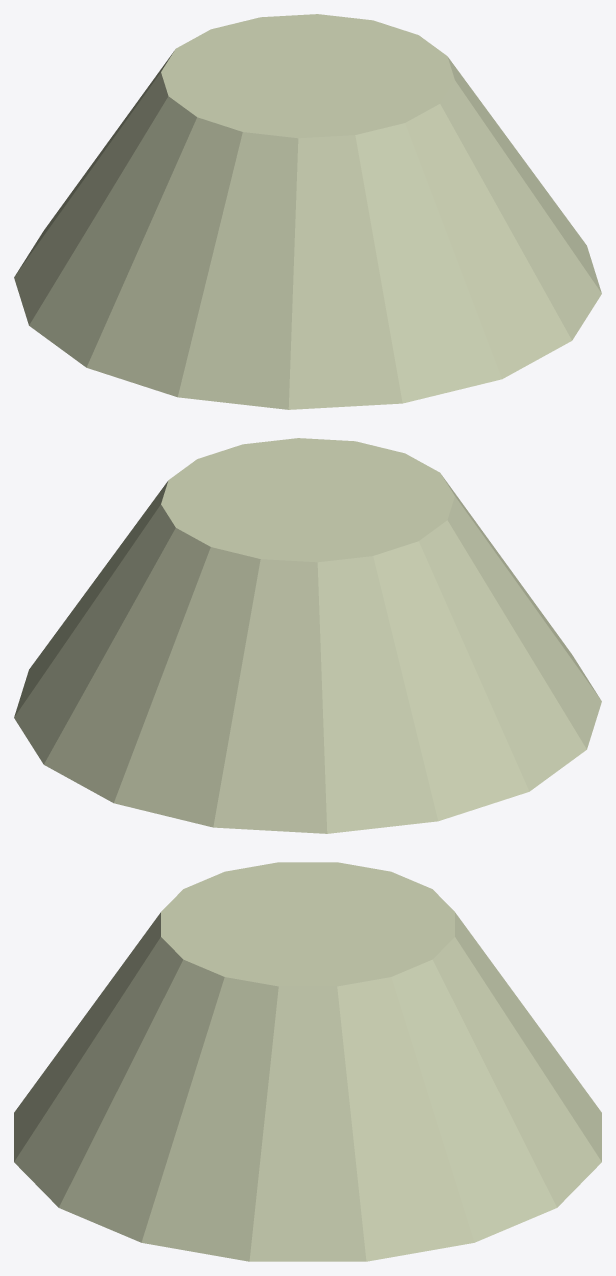
The model's file is aquarius_crew_s1p5_1_collider.obj.
3 views of the same model, one above another, from view 1: azimuth 30°, elevation 25°; view 2: azimuth 150°, elevation 25°; view 3: azimuth 270°, elevation 25° (orthographic).
Visible parts, largest first — view 1: aquarius_crew_s1p5_1_collider; view 2: aquarius_crew_s1p5_1_collider; view 3: aquarius_crew_s1p5_1_collider.
Part boxes in pixels (<box>): aquarius_crew_s1p5_1_collider: <box>14,14,601,409</box>; aquarius_crew_s1p5_1_collider: <box>14,438,601,833</box>; aquarius_crew_s1p5_1_collider: <box>14,862,601,1261</box>.
Bounding box in the file's own units: 1.88 × 0.75 × 1.88.
